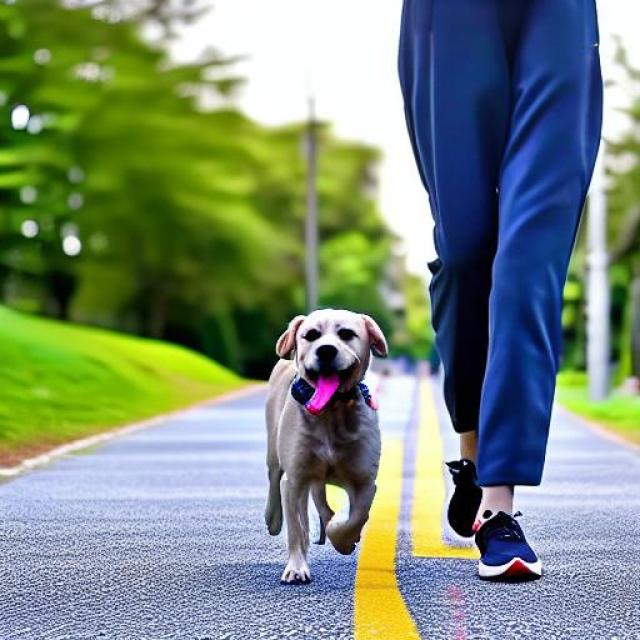Unleashed_Dog: (263, 0, 588, 586)
